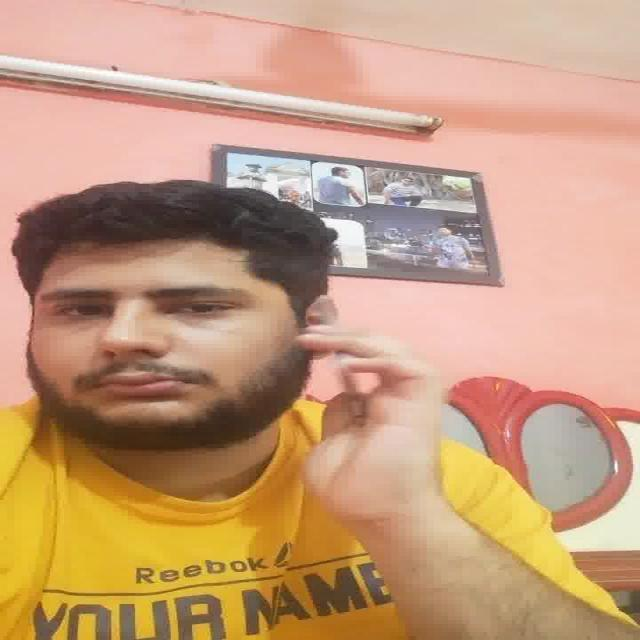Phone: (332, 344, 370, 430)
